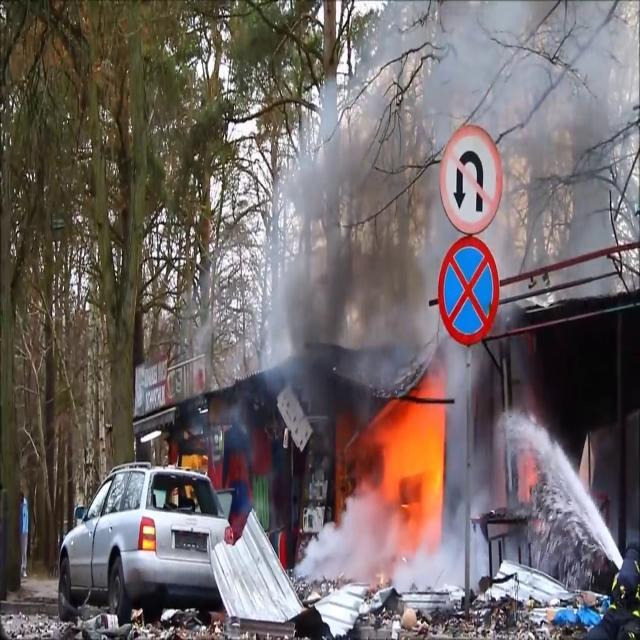Fire: (358, 382, 455, 544)
Smoke: (253, 4, 639, 387)
